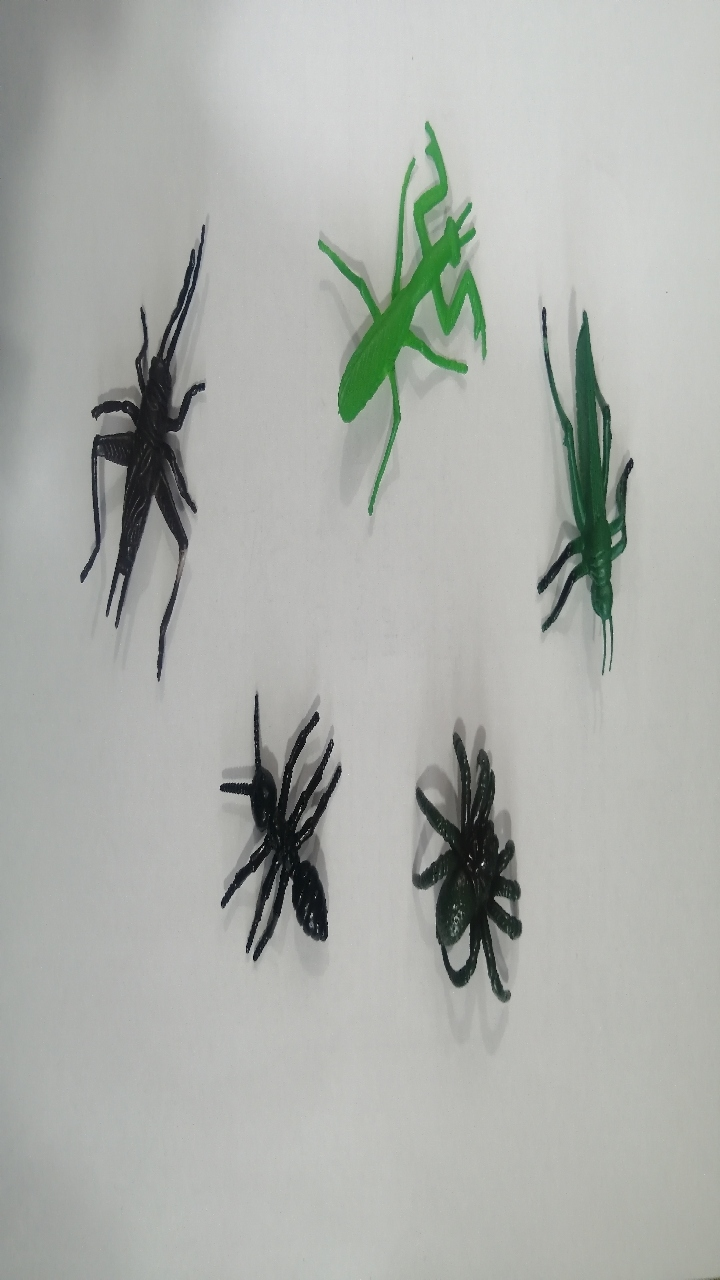intruso: (308, 108, 497, 555), (54, 228, 232, 692), (189, 677, 388, 997), (509, 294, 654, 671), (375, 722, 540, 1022)
